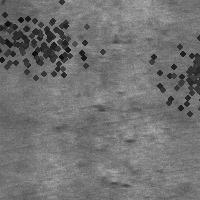rolled-in_scale: (3, 0, 97, 92), (0, 0, 66, 86), (148, 27, 200, 119), (81, 128, 151, 191)
